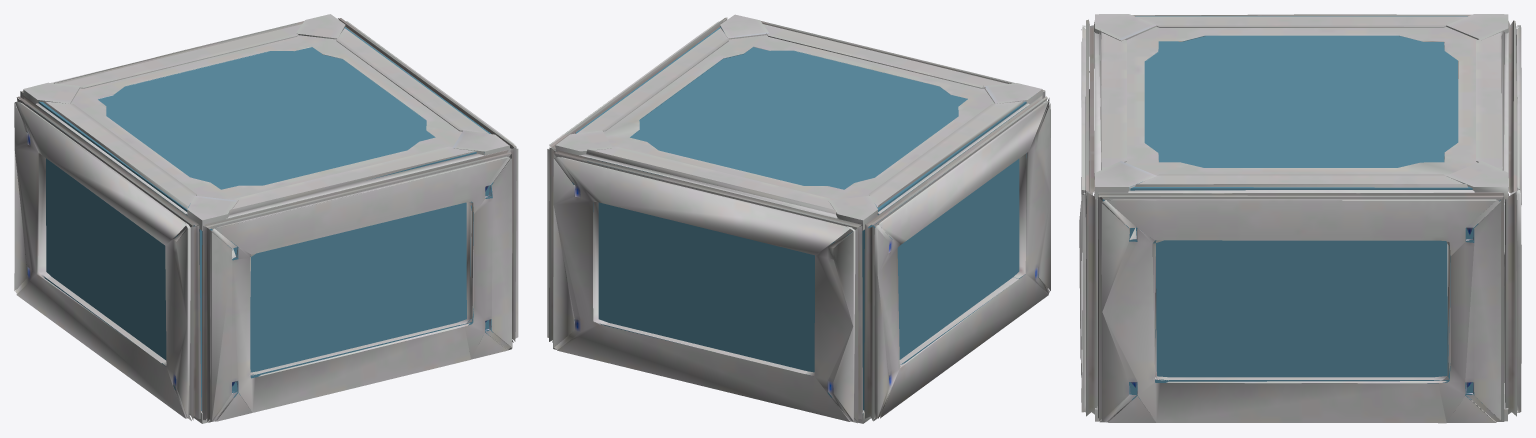
Rendered from BP_DedicatedStorage_C.glb.
The picture shows the model from 3 angles, left to right: view 1: azimuth 30°, elevation 25°; view 2: azimuth 150°, elevation 25°; view 3: azimuth 270°, elevation 25°; orthographic projection. The views are drawn at different scales.
Visible parts, largest first — view 1: Tek_Dedicated_Storage.001; view 2: Tek_Dedicated_Storage.001; view 3: Tek_Dedicated_Storage.001.
Part boxes in pixels (box(x1,y1,x2,y2)): Tek_Dedicated_Storage.001: box(14, 14, 518, 423); Tek_Dedicated_Storage.001: box(547, 14, 1050, 423); Tek_Dedicated_Storage.001: box(1079, 14, 1521, 423).
Size of the model in its own units: 1.5 by 0.89 by 1.5.
Materials: 2 (1 with a texture image).
